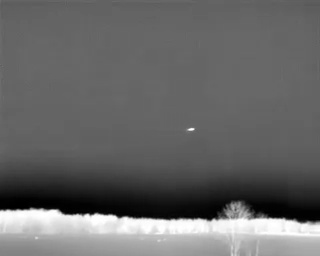BIRD: (184, 124, 197, 136)
